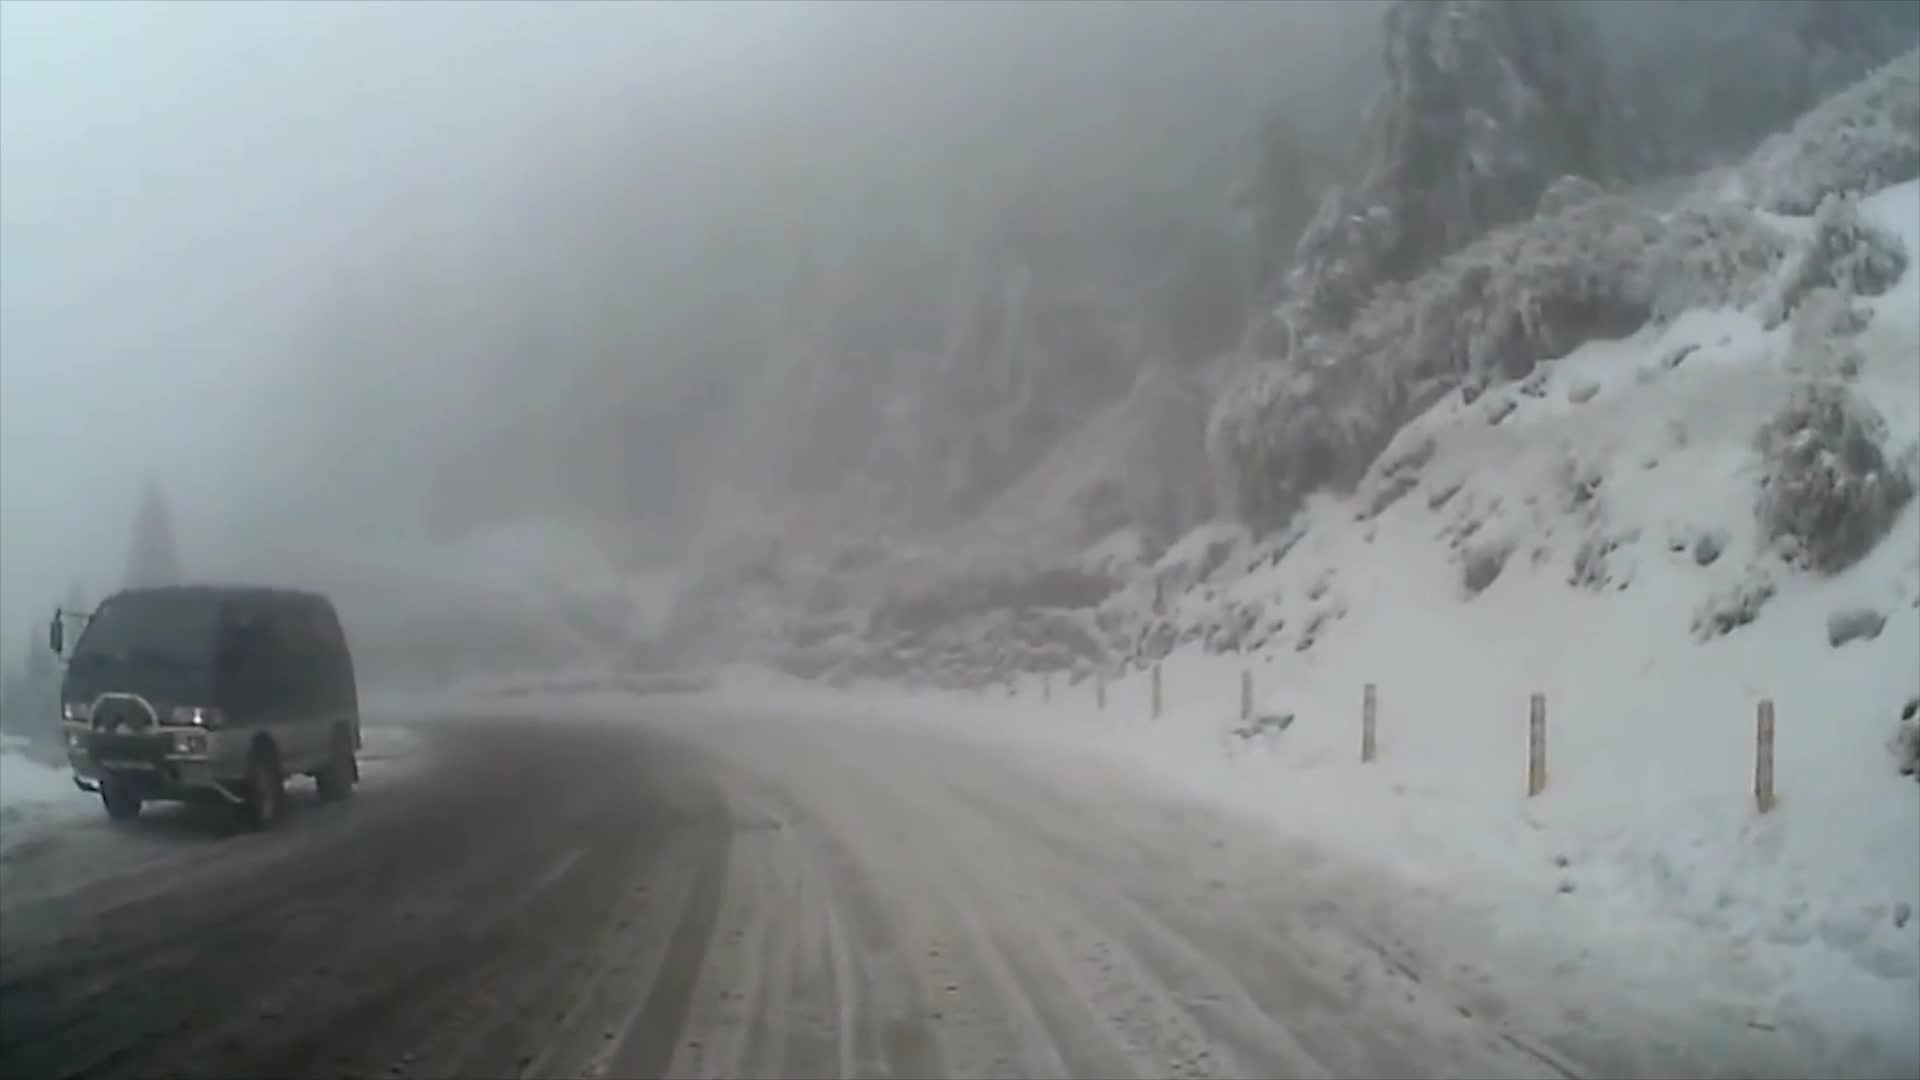vehicle: (44, 585, 363, 832)
